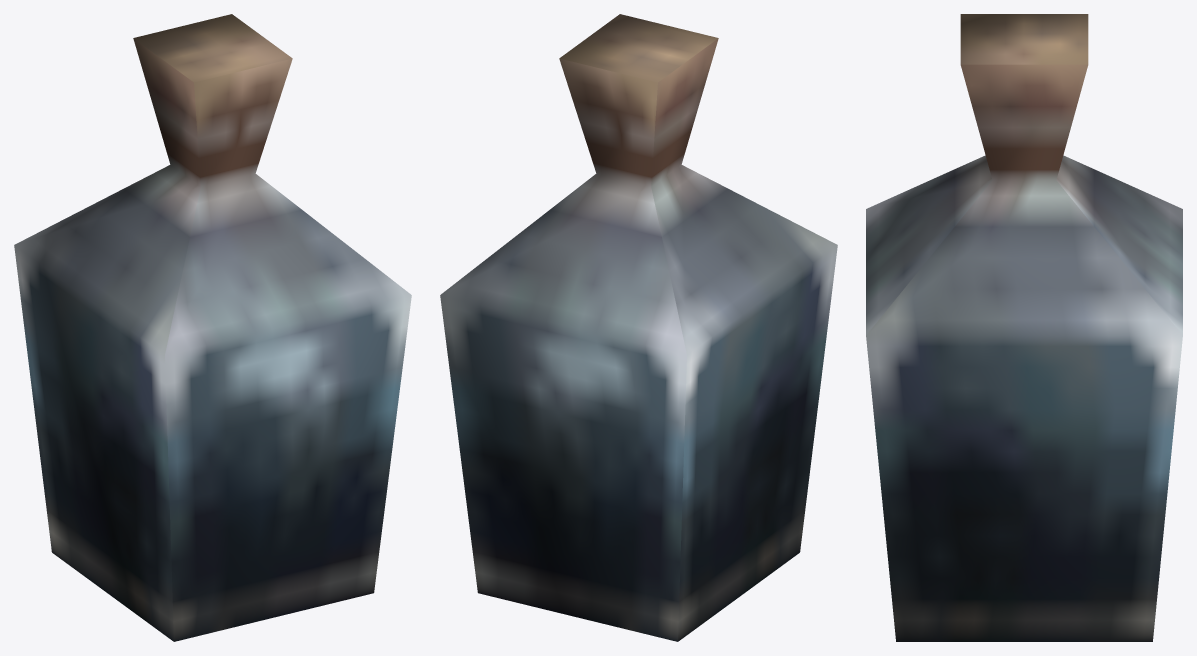
File: OZ_21_ta_botlle02A.glb
The picture shows the model from 3 angles, left to right: view 1: azimuth 30°, elevation 25°; view 2: azimuth 150°, elevation 25°; view 3: azimuth 270°, elevation 25°; orthographic projection. The views are drawn at different scales.
Visible parts, largest first — view 1: OM_21_ta_botlle02A; view 2: OM_21_ta_botlle02A; view 3: OM_21_ta_botlle02A.
Boxes of the visible parts, <box> form: OM_21_ta_botlle02A: <box>14,14,411,641</box>; OM_21_ta_botlle02A: <box>440,14,837,641</box>; OM_21_ta_botlle02A: <box>866,14,1182,641</box>.
Size of the model in its own units: 0.2139 by 0.4342 by 0.2263.
Materials: 1 (1 with a texture image).
